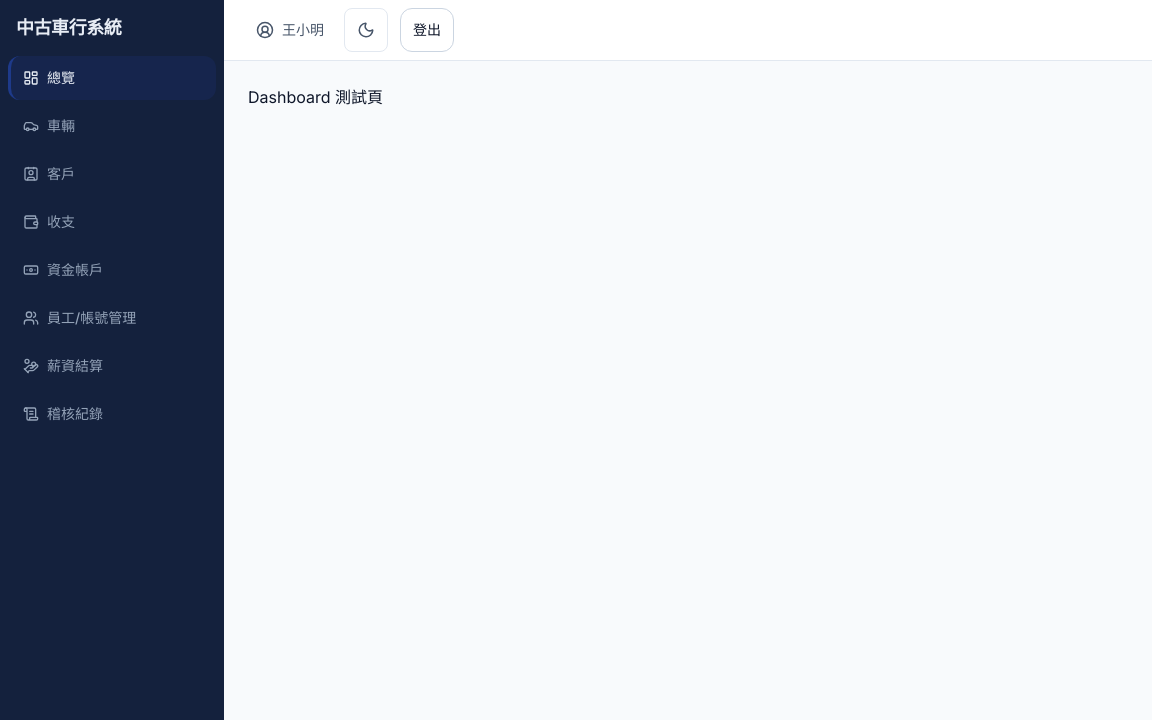
Test case: AppLayout auth and presentation regression › uses config in the sidebar and keeps theme switching operational
Expected: the text "Dashboard 測試頁" is shown, x1=248 y1=87 x2=383 y2=107
Expected: the text "中古車行系統" is shown, x1=16 y1=14 x2=121 y2=42
What coordinates should you click on to do the following:
click the button named "切換為深色模式"
I would click on:
 (366, 30)
Its box is x1=344 y1=8 x2=388 y2=52.
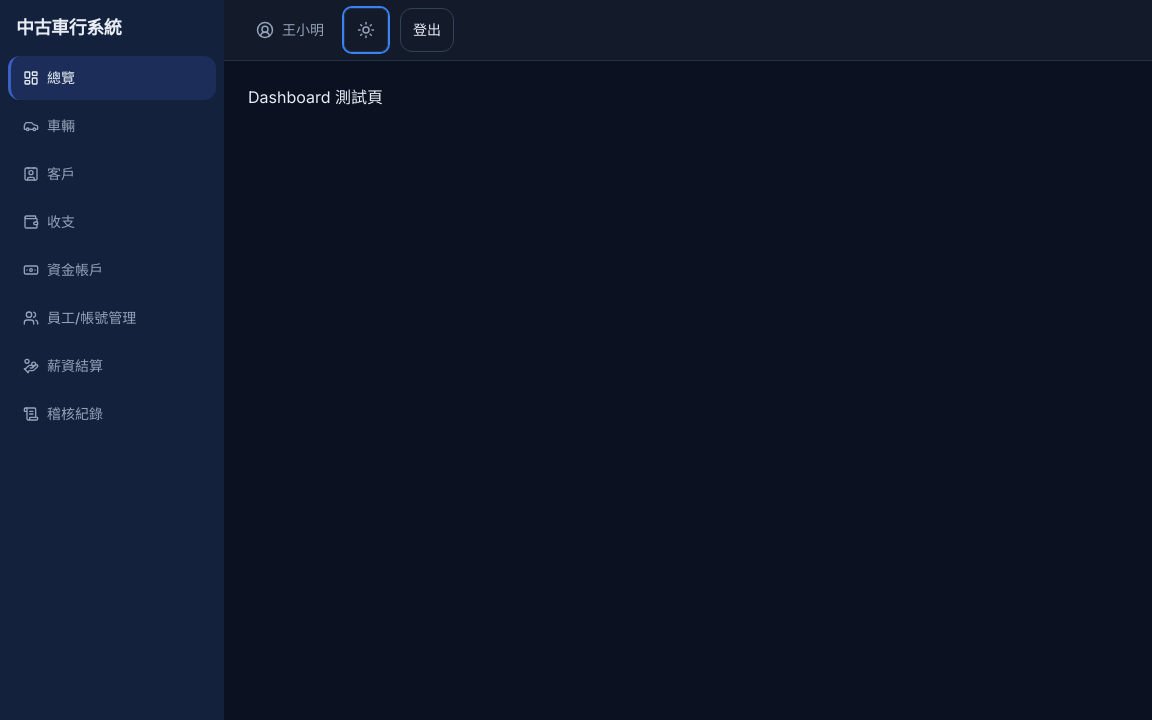
Expected: the button named "切換為淺色模式" is shown, x1=344 y1=8 x2=388 y2=52
